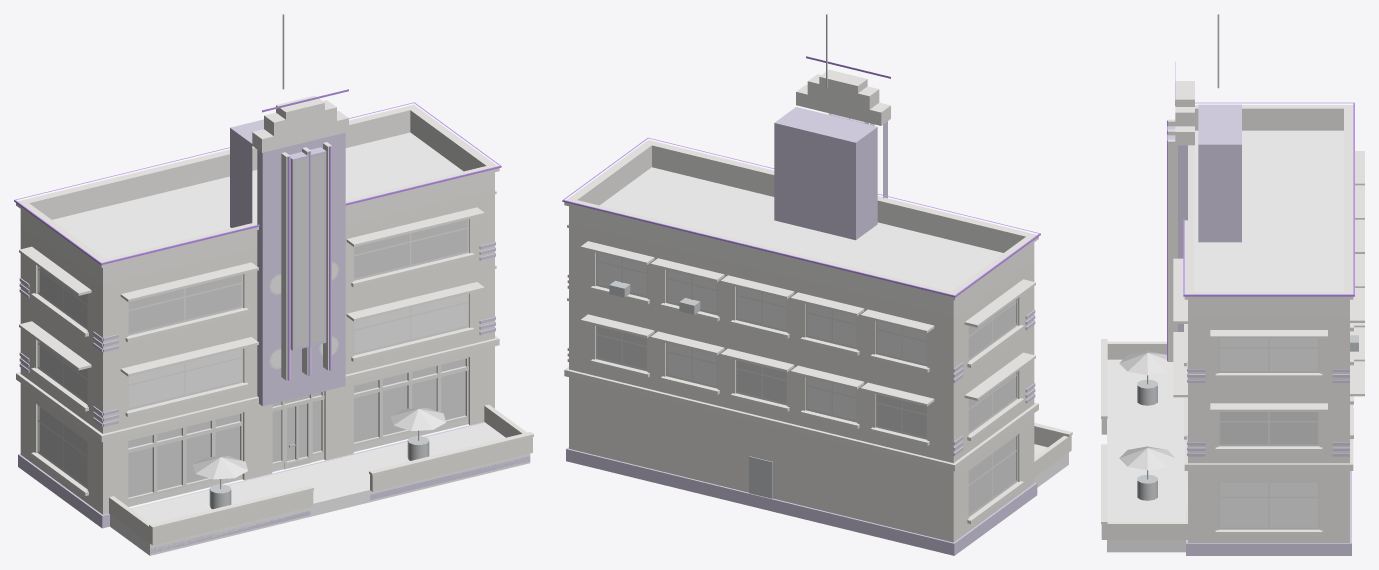
Rendered from deco_w66f2s.glb.
The picture shows the model from 3 angles, left to right: view 1: azimuth 30°, elevation 25°; view 2: azimuth 150°, elevation 25°; view 3: azimuth 270°, elevation 25°; orthographic projection.
Visible parts, largest first — view 1: deco_w66f2s_Walls, deco_w66f2s_Trim, deco_w66f2s_WindowsLit, deco_w66f2s_Accent, deco_w66f2s_Roof, deco_w66f2s_Walls2, deco_w66f2s_Frames, deco_w66f2s_Glass, deco_w66f2s_Brand, deco_w66f2s_Neon, deco_w66f2s_Awning, deco_w66f2s_Details; view 2: deco_w66f2s_Walls, deco_w66f2s_Trim, deco_w66f2s_Accent, deco_w66f2s_Roof, deco_w66f2s_Glass, deco_w66f2s_WindowsLit, deco_w66f2s_Frames, deco_w66f2s_Neon, deco_w66f2s_Details; view 3: deco_w66f2s_Trim, deco_w66f2s_Walls, deco_w66f2s_Roof, deco_w66f2s_Walls2, deco_w66f2s_Accent, deco_w66f2s_Glass, deco_w66f2s_WindowsLit, deco_w66f2s_Frames, deco_w66f2s_Awning, deco_w66f2s_Neon, deco_w66f2s_Details.
Boxes of the visible parts, x1=… form: deco_w66f2s_Walls: x1=20, y1=189, x2=532, y2=545; deco_w66f2s_Trim: x1=16, y1=95, x2=533, y2=529; deco_w66f2s_WindowsLit: x1=39, y1=219, x2=467, y2=497; deco_w66f2s_Accent: x1=18, y1=119, x2=530, y2=553; deco_w66f2s_Roof: x1=52, y1=132, x2=463, y2=258; deco_w66f2s_Walls2: x1=110, y1=422, x2=530, y2=555; deco_w66f2s_Frames: x1=37, y1=219, x2=469, y2=500; deco_w66f2s_Glass: x1=128, y1=263, x2=467, y2=408; deco_w66f2s_Brand: x1=295, y1=154, x2=323, y2=347; deco_w66f2s_Neon: x1=14, y1=89, x2=501, y2=380; deco_w66f2s_Awning: x1=193, y1=407, x2=446, y2=479; deco_w66f2s_Details: x1=209, y1=14, x2=429, y2=508; deco_w66f2s_Walls: x1=569, y1=223, x2=1071, y2=542; deco_w66f2s_Trim: x1=564, y1=69, x2=1072, y2=523; deco_w66f2s_Accent: x1=566, y1=107, x2=1037, y2=555; deco_w66f2s_Roof: x1=600, y1=167, x2=1003, y2=291; deco_w66f2s_Glass: x1=597, y1=253, x2=926, y2=420; deco_w66f2s_WindowsLit: x1=597, y1=300, x2=1015, y2=514; deco_w66f2s_Frames: x1=596, y1=252, x2=1017, y2=517; deco_w66f2s_Neon: x1=562, y1=56, x2=1040, y2=297; deco_w66f2s_Details: x1=609, y1=14, x2=827, y2=498; deco_w66f2s_Trim: x1=1101, y1=81, x2=1364, y2=535; deco_w66f2s_Walls: x1=1101, y1=316, x2=1349, y2=542; deco_w66f2s_Roof: x1=1194, y1=130, x2=1343, y2=291; deco_w66f2s_Walls2: x1=1107, y1=359, x2=1187, y2=552; deco_w66f2s_Accent: x1=1107, y1=104, x2=1351, y2=555; deco_w66f2s_Glass: x1=1220, y1=338, x2=1317, y2=527; deco_w66f2s_WindowsLit: x1=1220, y1=412, x2=1317, y2=444; deco_w66f2s_Frames: x1=1218, y1=338, x2=1319, y2=529; deco_w66f2s_Awning: x1=1119, y1=351, x2=1175, y2=470; deco_w66f2s_Neon: x1=1167, y1=62, x2=1354, y2=361; deco_w66f2s_Details: x1=1137, y1=14, x2=1358, y2=500.
Bounding box in the file's own units: 70.4 × 73 × 39.1.
